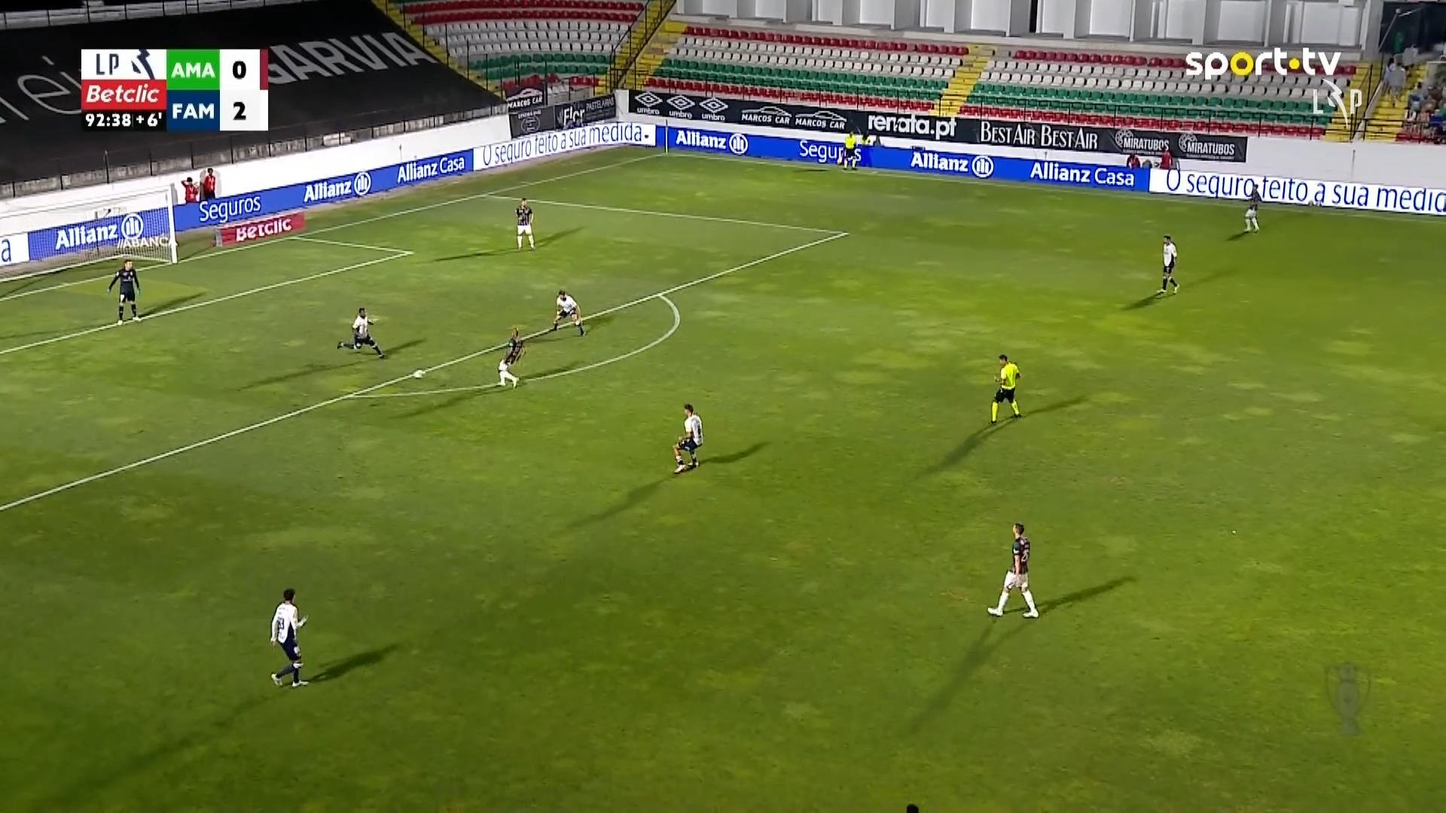ball: (413, 369, 423, 379), (293, 644, 300, 656)
goalkeeper: (106, 258, 142, 325)
player: (986, 522, 1039, 618), (268, 587, 310, 687), (671, 403, 703, 473), (496, 326, 526, 388), (350, 307, 385, 358), (551, 288, 585, 336), (1156, 233, 1179, 294), (514, 196, 535, 251), (1242, 181, 1261, 233), (1243, 202, 1259, 232)
referee: (989, 353, 1022, 424), (840, 128, 862, 170)
